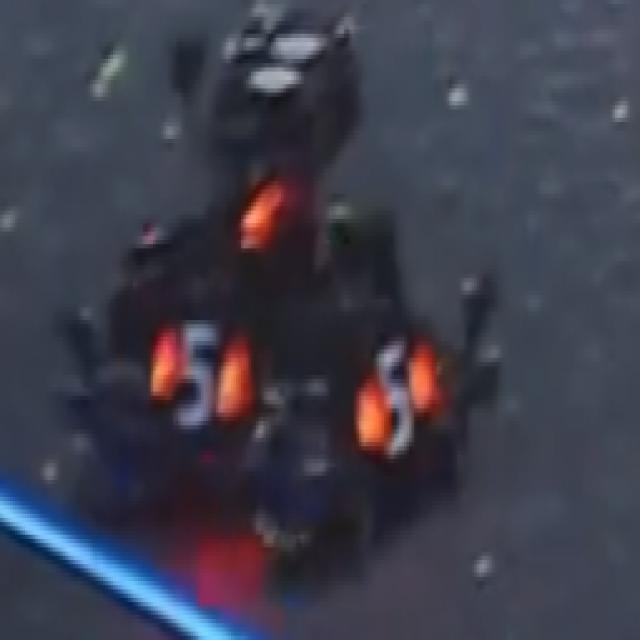R5: (160, 320, 238, 421), (359, 341, 432, 438)
